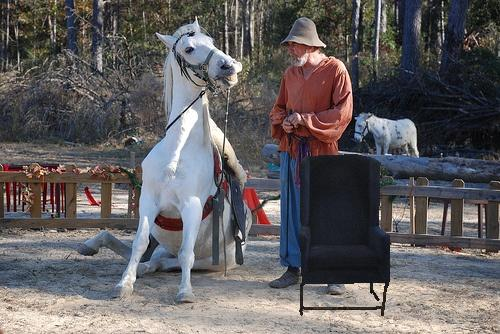tampered: (300, 155, 390, 316)
